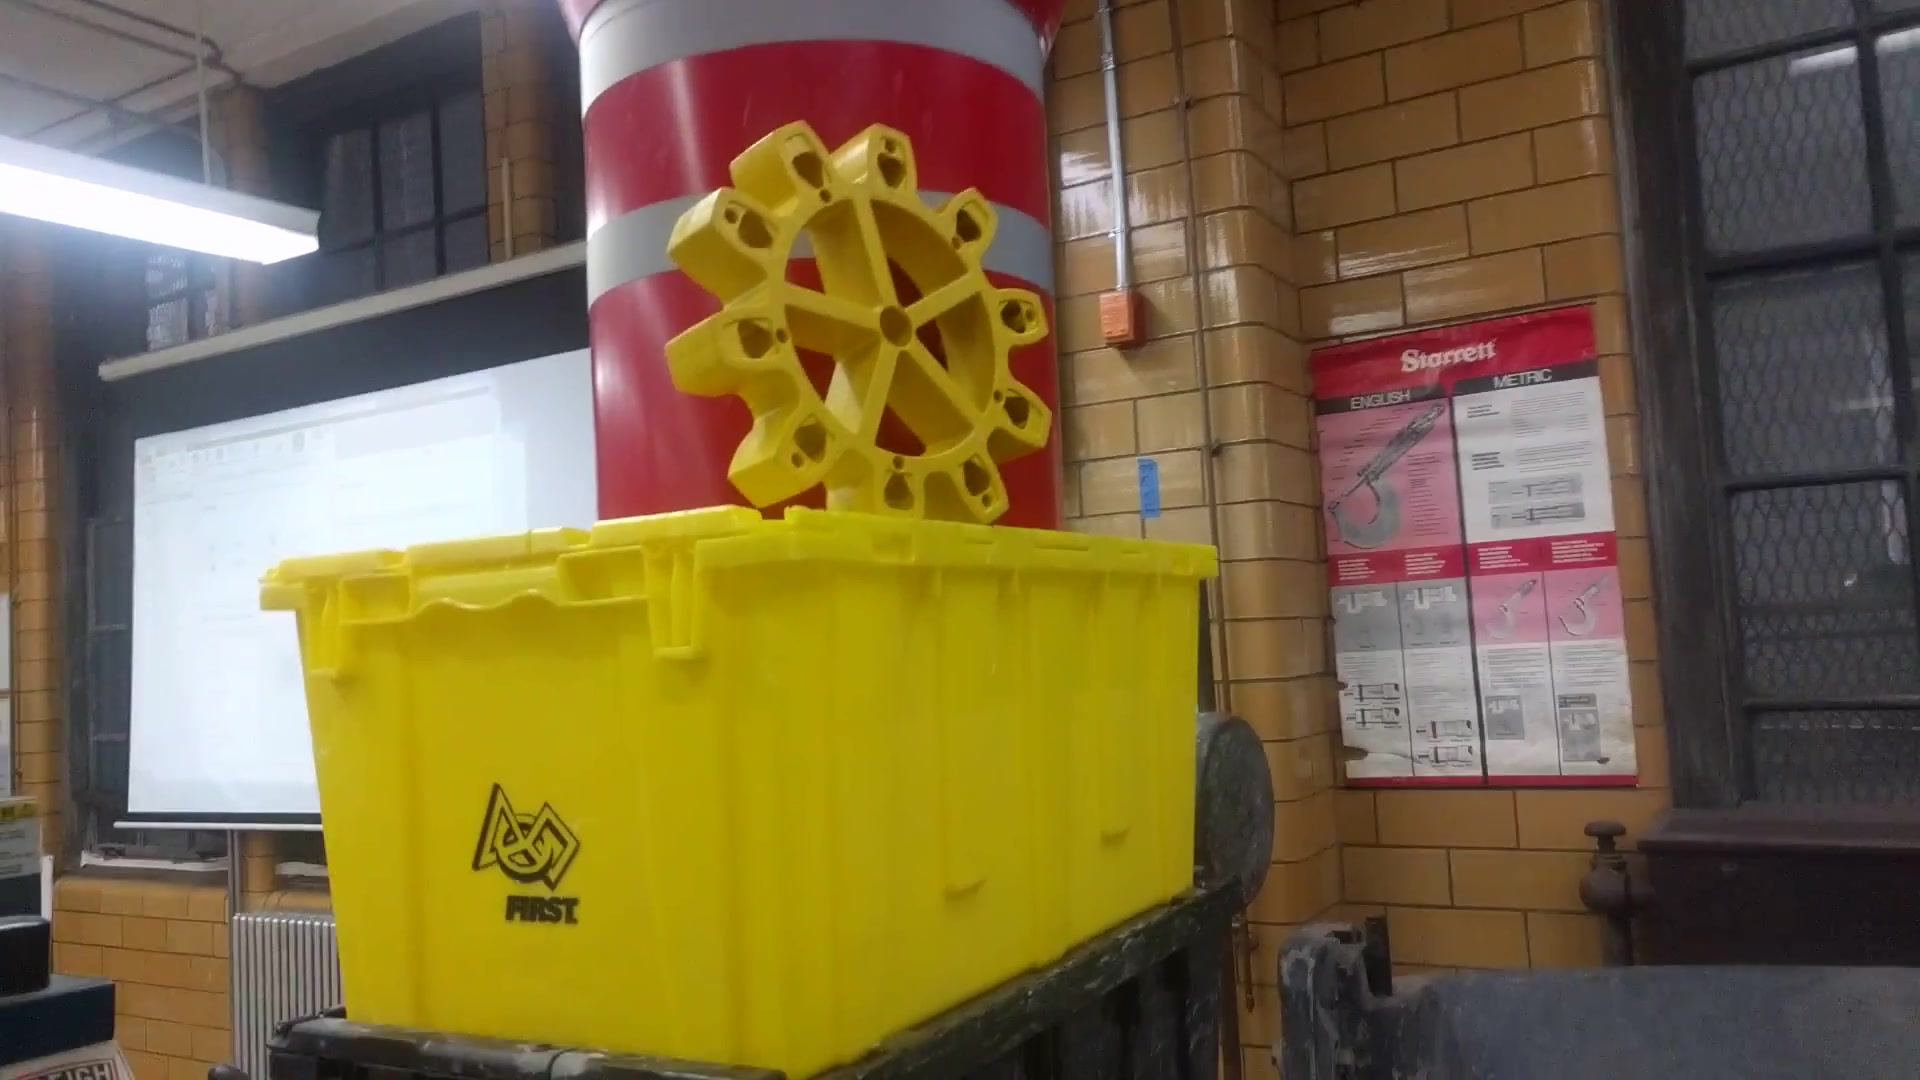gear: (659, 115, 1068, 560)
